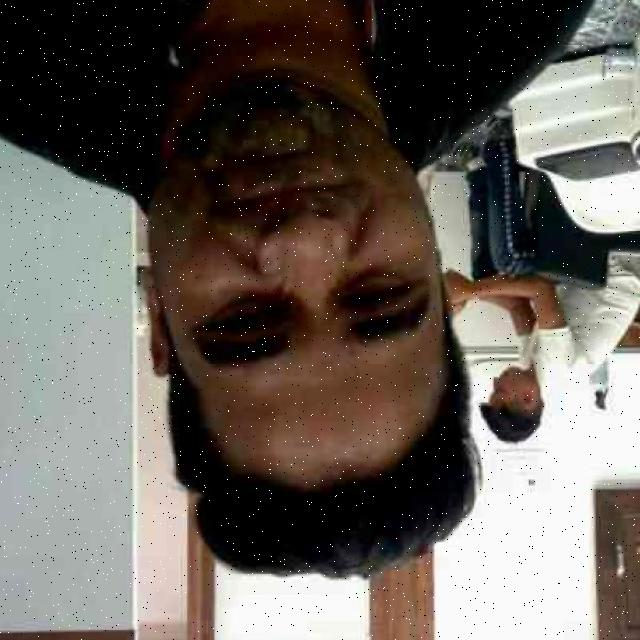puffy_eyes: (210, 297, 286, 321), (341, 269, 408, 292)
